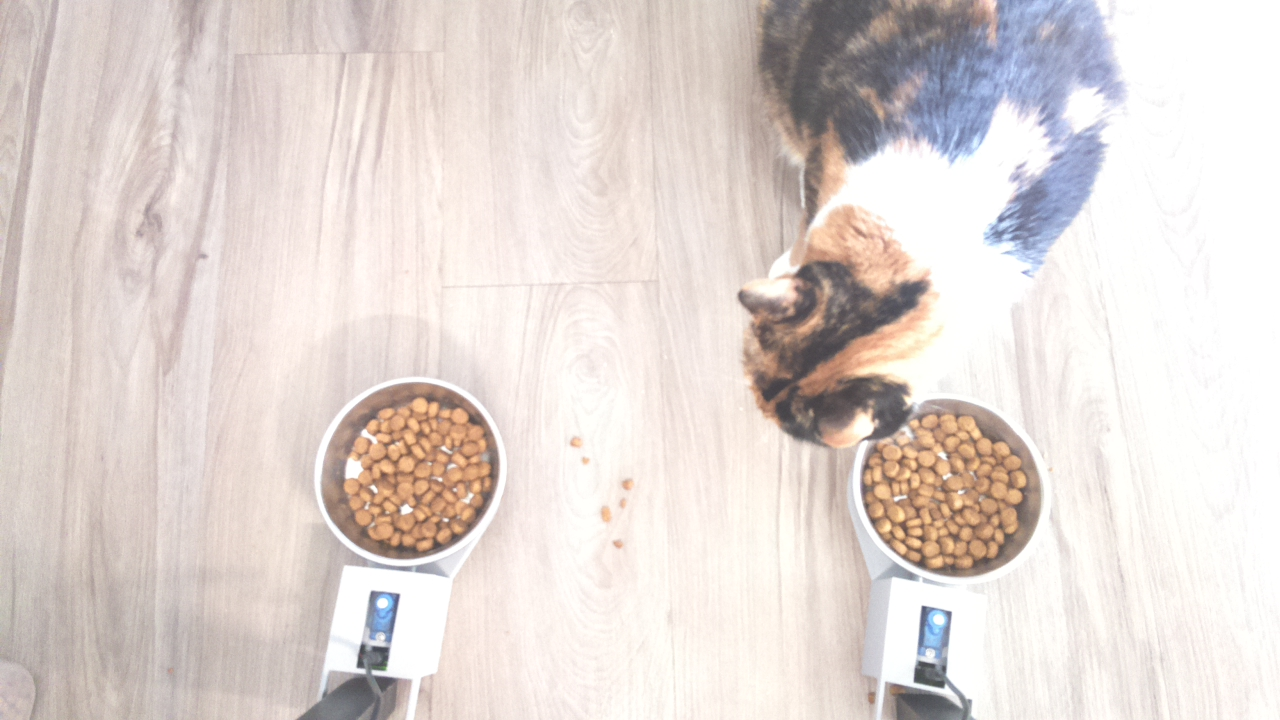bella: (721, 198, 982, 443)
open_bowl: (312, 373, 511, 569), (852, 393, 1045, 589)
